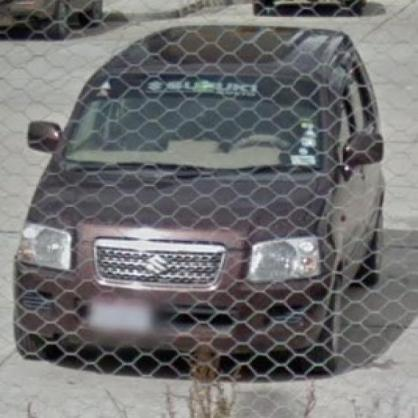car: (13, 22, 388, 381)
